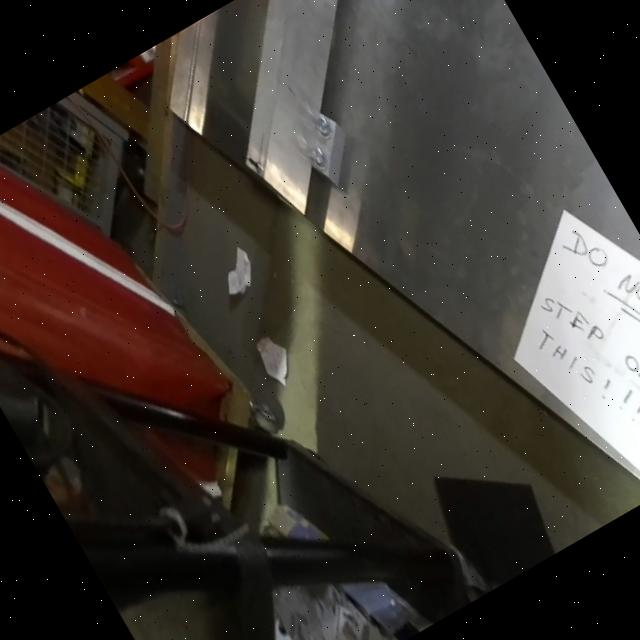blocks: (272, 90, 389, 220)
